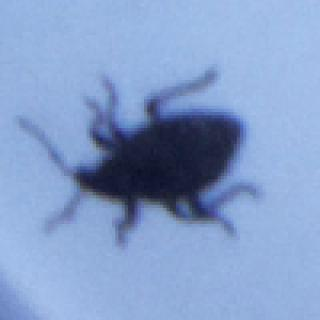bvw: (17, 70, 262, 247)
